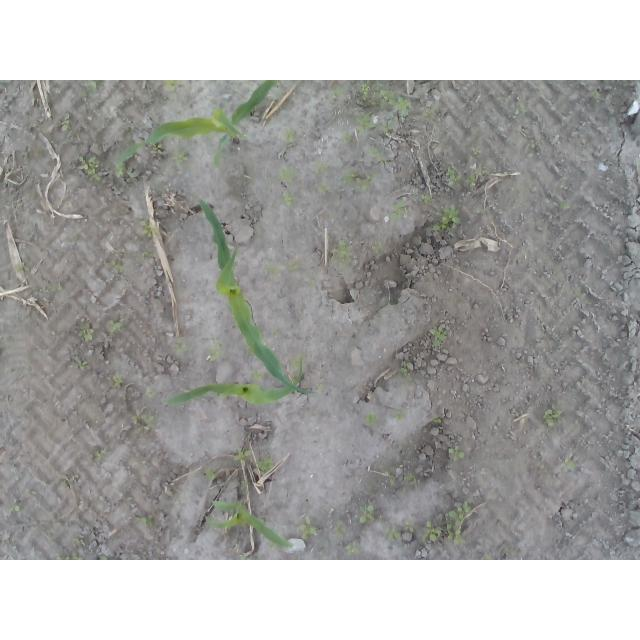Maize: (199, 195, 318, 397), (113, 81, 280, 172), (165, 367, 306, 407), (203, 495, 292, 550)
Weeds: (419, 502, 473, 547), (353, 80, 411, 117), (339, 166, 379, 192), (432, 207, 463, 238), (77, 153, 104, 181), (446, 167, 476, 190), (334, 238, 354, 272), (351, 501, 378, 523), (131, 415, 162, 434), (294, 516, 318, 540), (277, 159, 299, 185), (385, 199, 410, 221), (353, 111, 375, 135), (135, 214, 157, 238), (207, 337, 226, 364), (428, 324, 448, 349), (366, 145, 388, 167), (31, 281, 65, 295), (171, 148, 194, 168), (261, 263, 284, 282), (21, 143, 45, 161), (78, 320, 97, 342), (175, 335, 194, 355), (79, 80, 101, 97), (135, 515, 161, 529), (543, 407, 561, 427), (162, 81, 186, 96), (383, 525, 402, 543), (110, 320, 129, 337), (448, 445, 465, 464), (233, 448, 253, 464), (71, 352, 89, 369), (279, 192, 297, 209), (115, 166, 137, 179), (255, 457, 274, 472), (336, 131, 356, 145), (280, 128, 297, 144), (392, 407, 410, 422), (364, 410, 380, 426), (369, 240, 385, 256), (560, 456, 576, 472), (345, 543, 363, 557), (111, 372, 126, 388), (110, 259, 126, 274), (399, 360, 413, 377), (95, 448, 111, 462), (55, 552, 82, 560), (8, 498, 23, 512), (419, 191, 434, 205), (404, 518, 417, 534), (318, 160, 330, 177), (143, 388, 158, 401), (205, 467, 220, 480), (14, 263, 31, 274), (387, 466, 396, 486), (515, 102, 530, 114), (287, 260, 300, 273), (149, 143, 163, 155), (316, 183, 331, 194), (425, 103, 441, 113), (254, 370, 266, 383), (334, 527, 348, 538), (290, 356, 300, 371), (403, 471, 418, 481), (334, 87, 347, 98), (431, 415, 441, 426), (72, 536, 84, 545), (558, 200, 571, 208), (527, 143, 537, 153), (98, 553, 111, 560), (240, 479, 249, 489), (384, 119, 393, 129), (143, 248, 153, 257), (62, 120, 70, 129), (238, 553, 248, 560), (272, 330, 280, 338)
